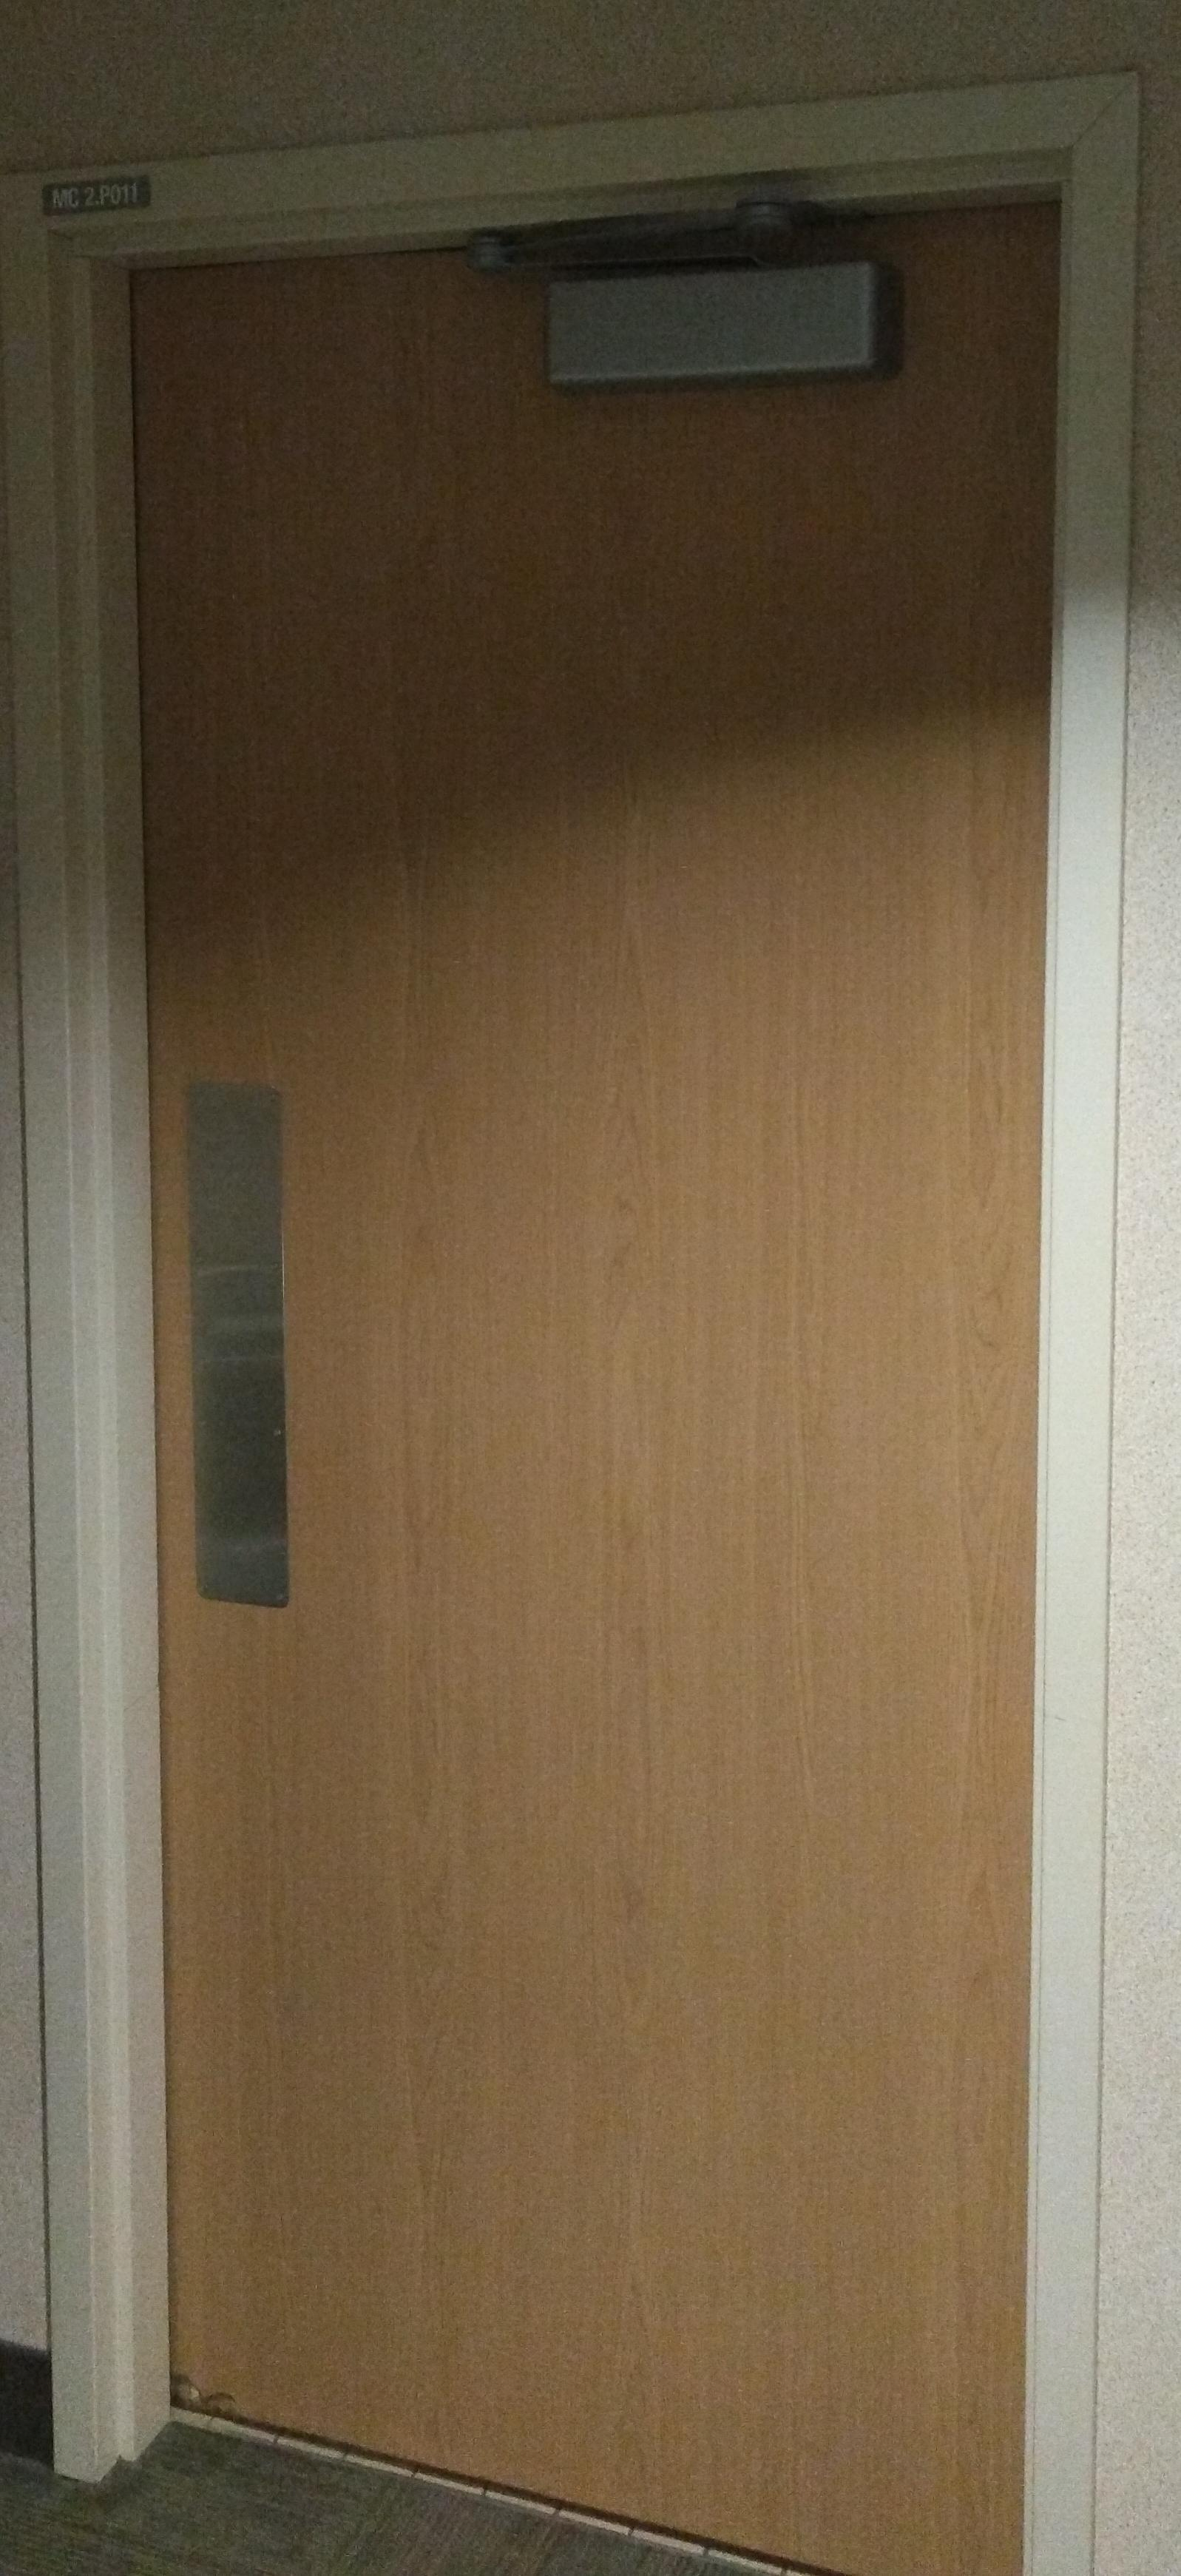door: (61, 174, 1097, 2576)
